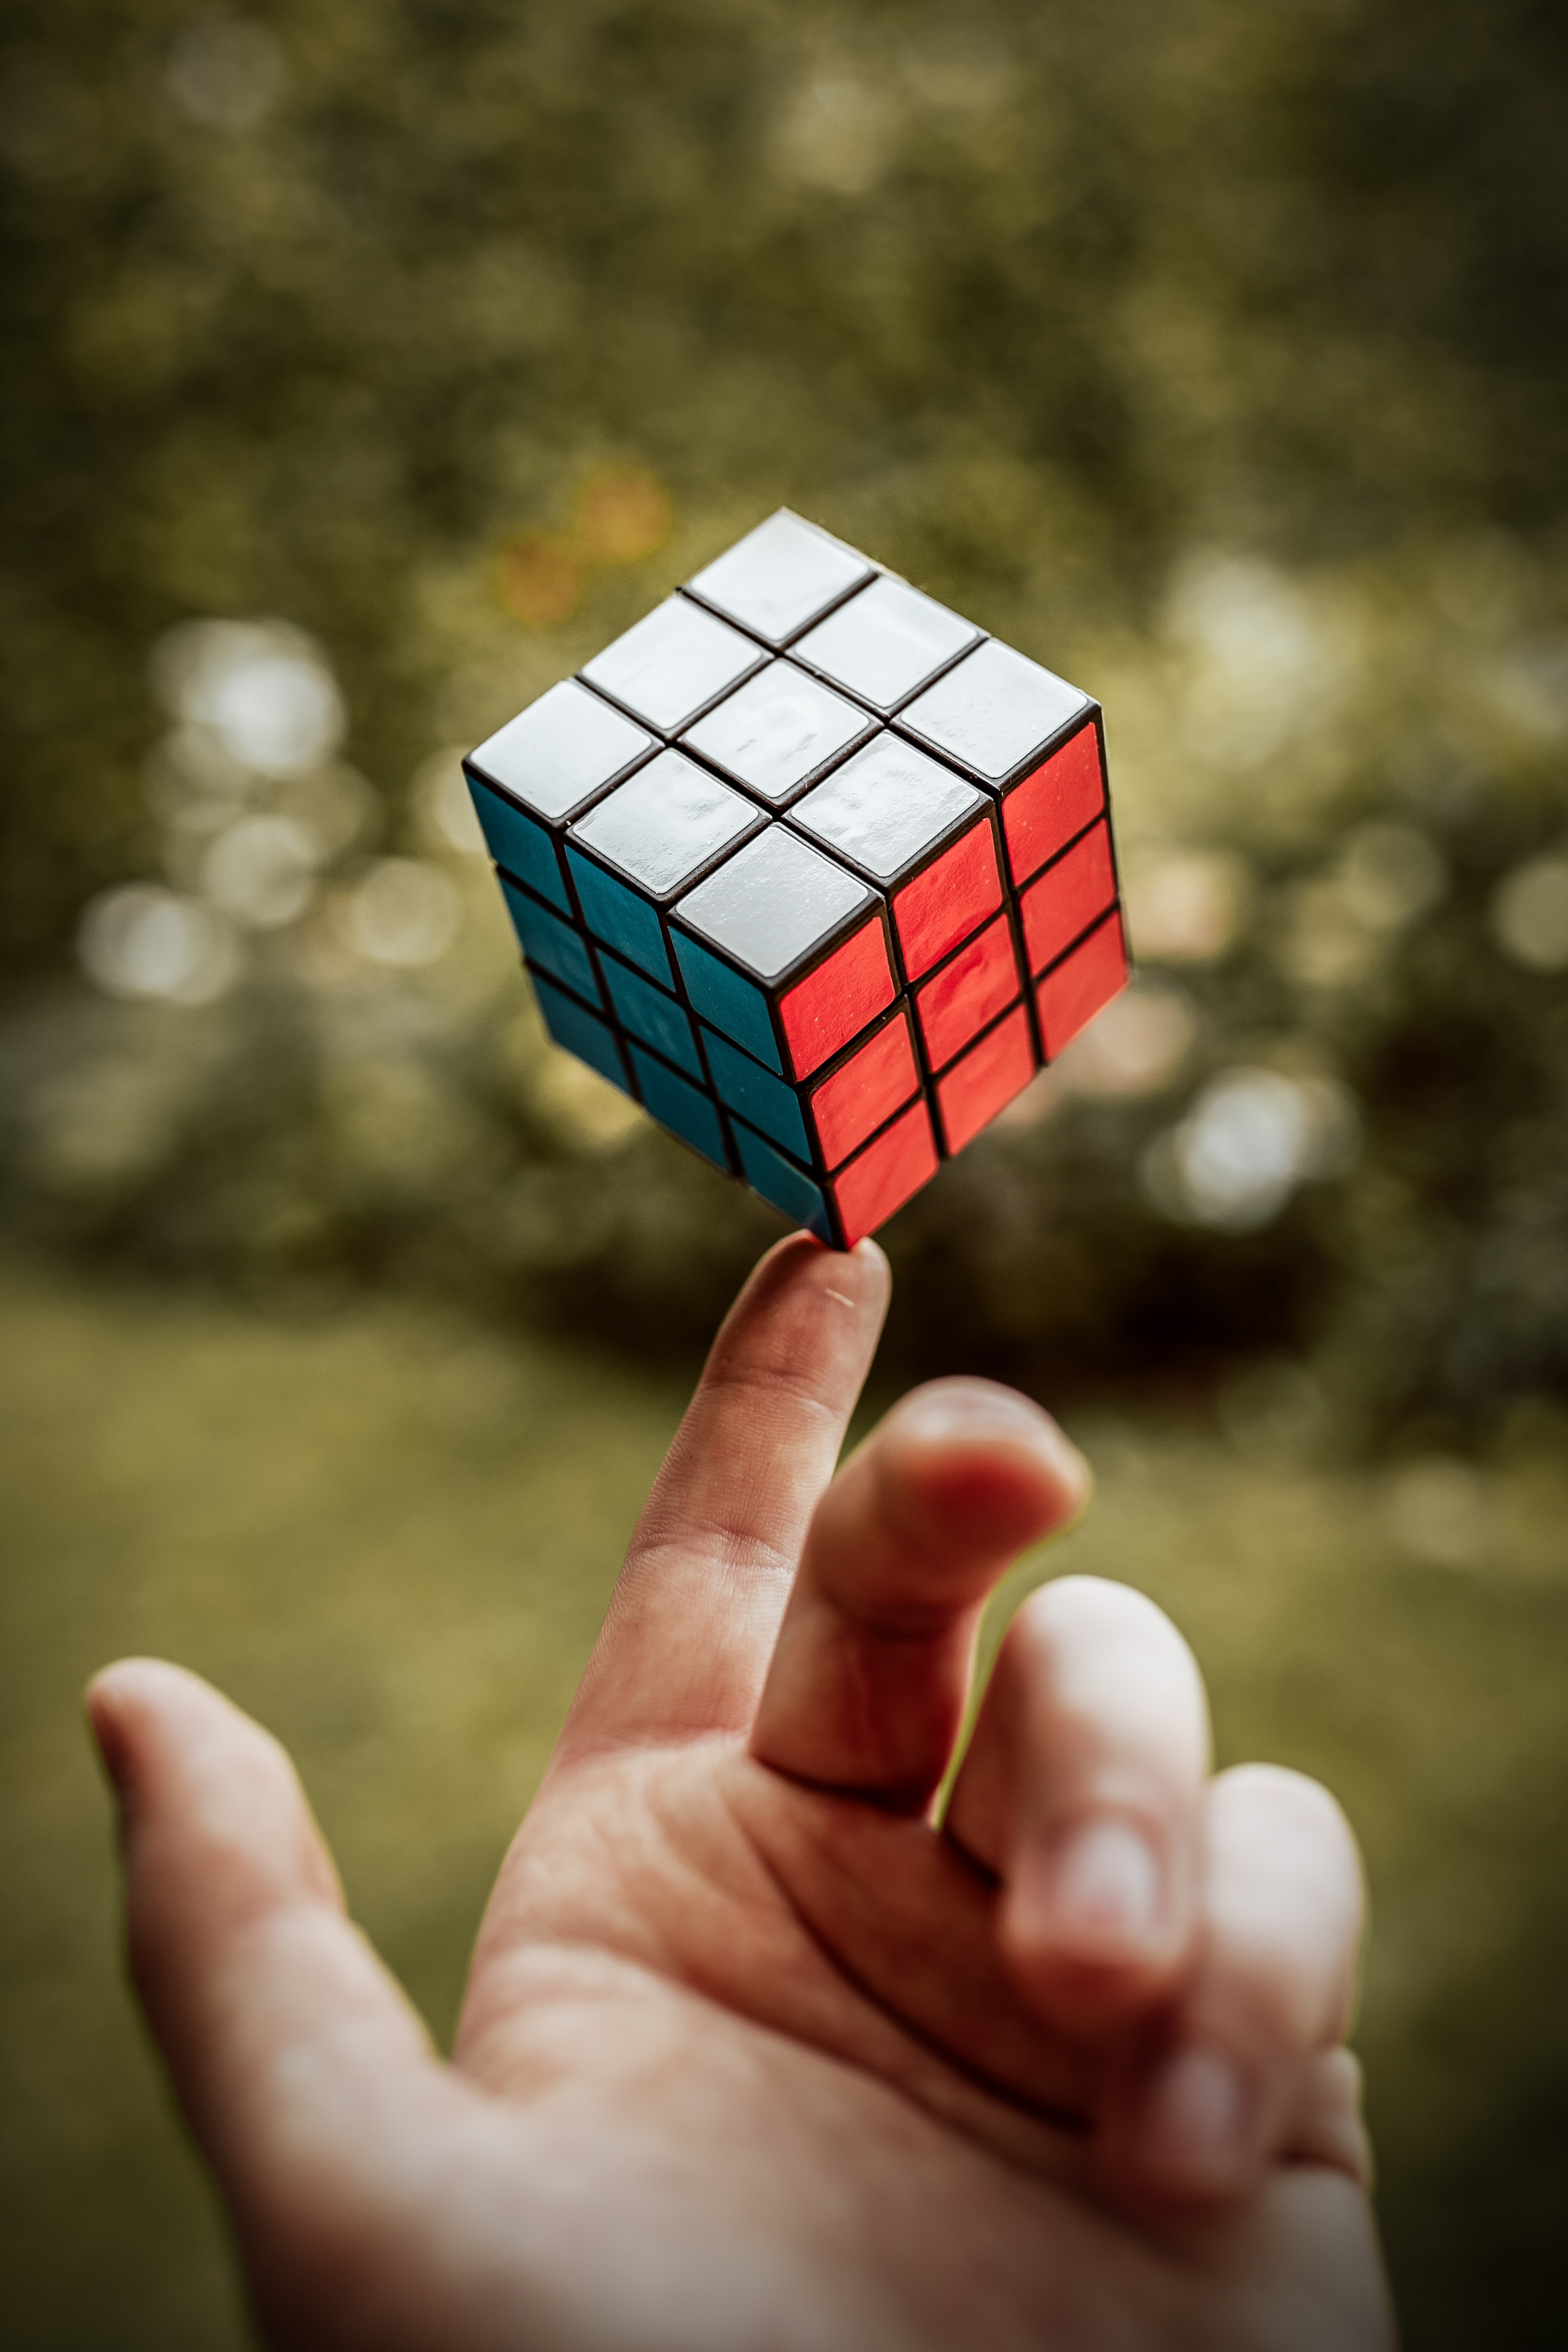cube: (462, 511, 1141, 1258)
